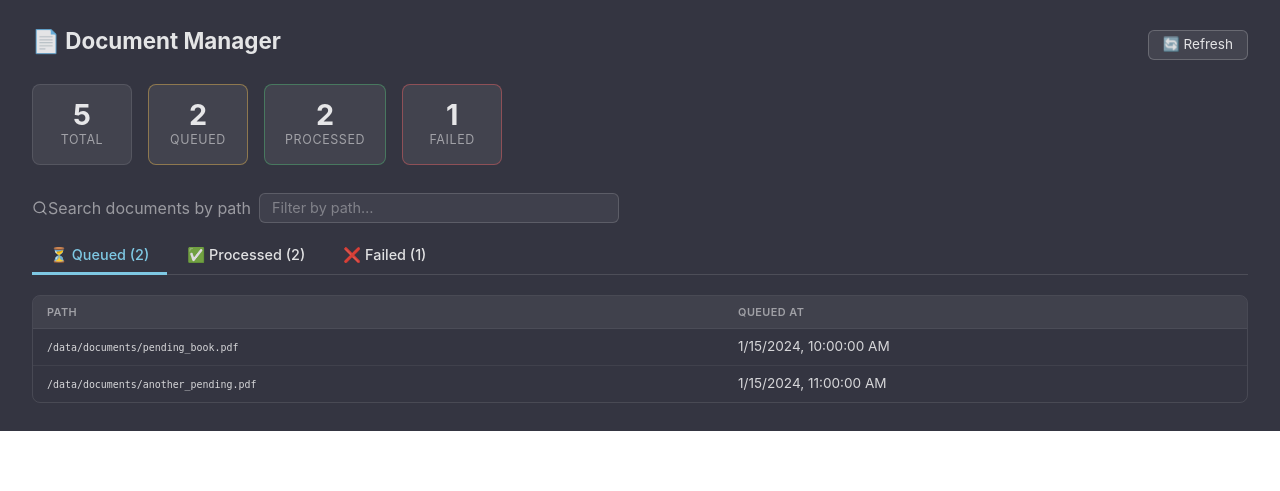
it: AdminDocumentsPage › shows clear all with confirmation on processed tab
Step 1. Click the tab "✅ Processed (2)" → (246, 257), box [169,239,323,275]
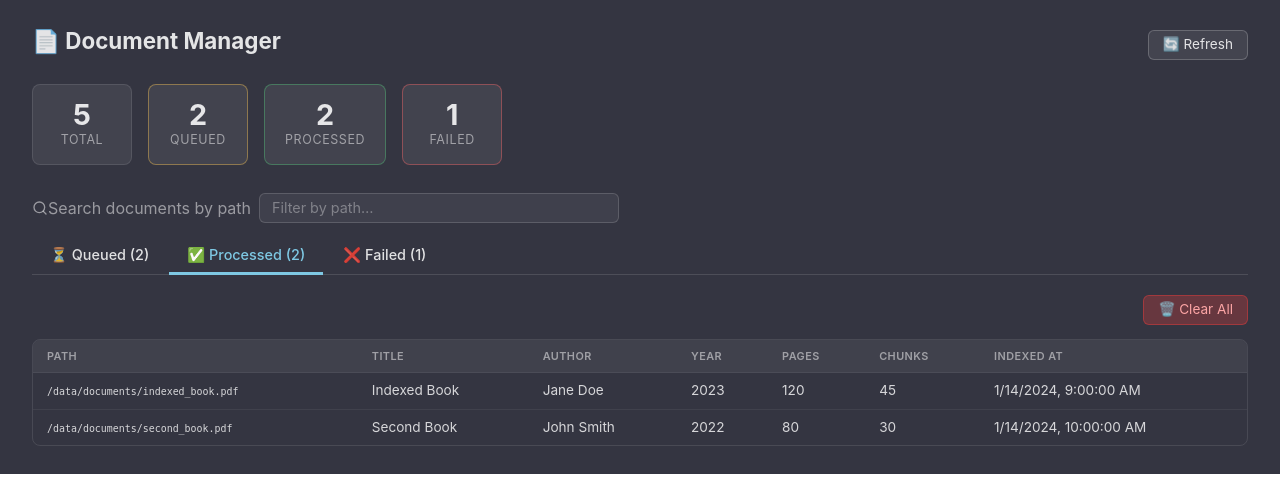
Check: the button "🗑️ Clear All" is shown
Step 2. Click the button "🗑️ Clear All" → (1196, 310), box [1143,295,1248,324]
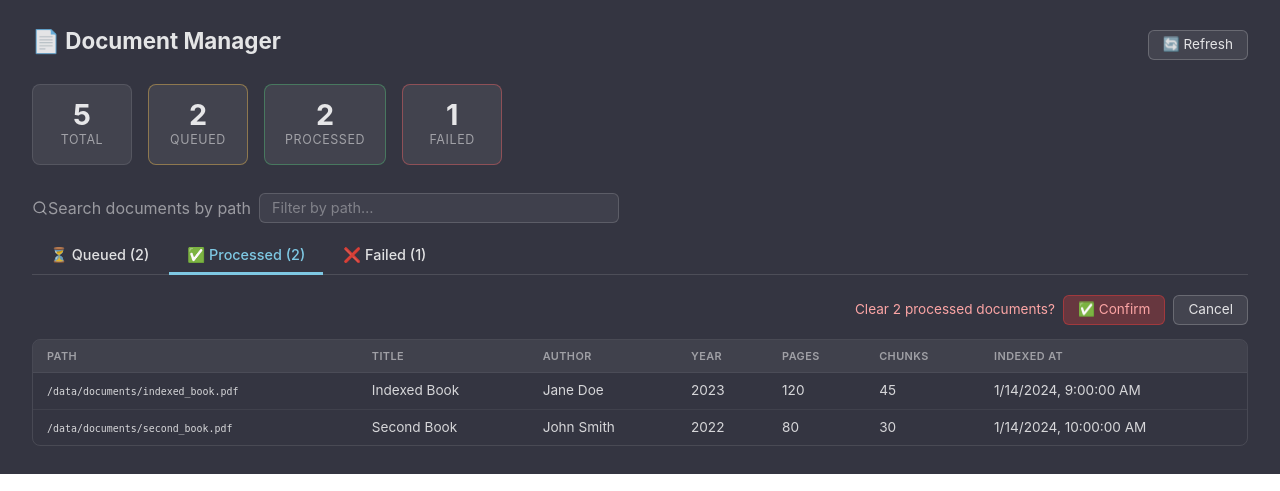
Check: the text "Clear 2 processed documents?" is shown, box [855,302,1055,318]
Check: the button "✅ Confirm" is shown, box [1063,295,1166,324]
Check: the button "Cancel" is shown, box [1173,295,1248,324]
